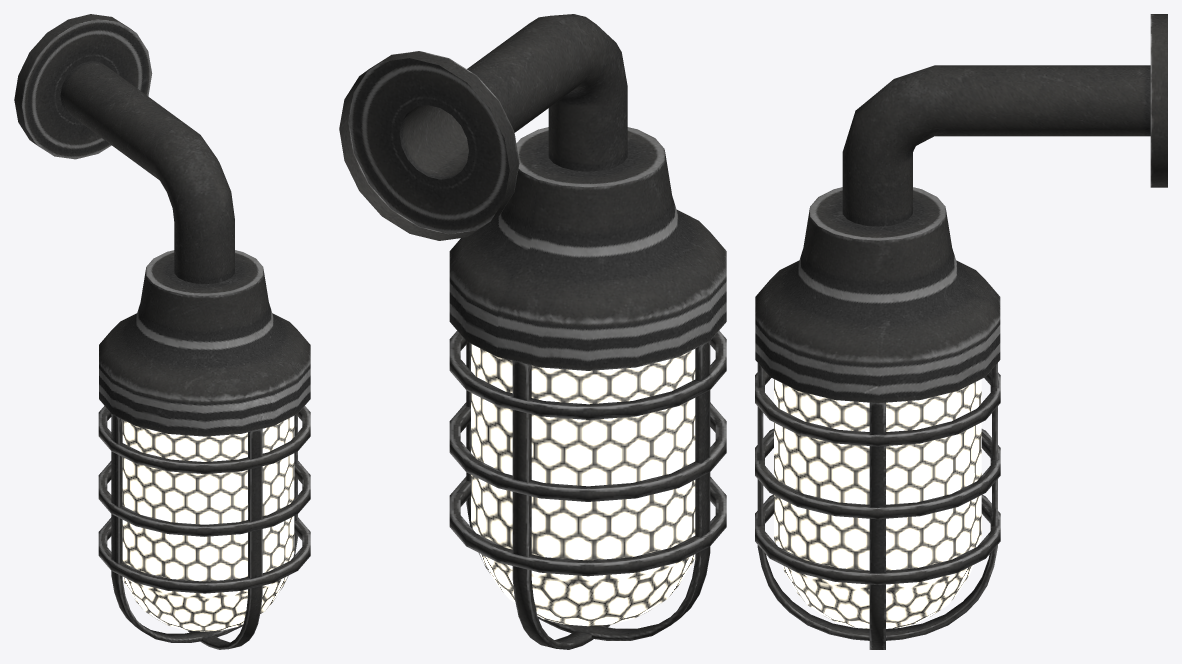
Rendered from SM_Light_03.fbx.
3 views of the same model, side by side, from view 1: azimuth 30°, elevation 25°; view 2: azimuth 150°, elevation 25°; view 3: azimuth 270°, elevation 25° (orthographic). The views are drawn at different scales.
Visible parts, largest first — view 1: SM_Light_03_LOD0; view 2: SM_Light_03_LOD0; view 3: SM_Light_03_LOD0.
Part boxes in pixels (box(x1,y1,x2,y2)): SM_Light_03_LOD0: box(14, 14, 310, 649); SM_Light_03_LOD0: box(339, 14, 726, 649); SM_Light_03_LOD0: box(755, 14, 1167, 649).
Size of the model in its own units: 42.93 by 71.11 by 117.
Materials: 1 (1 with a texture image).
